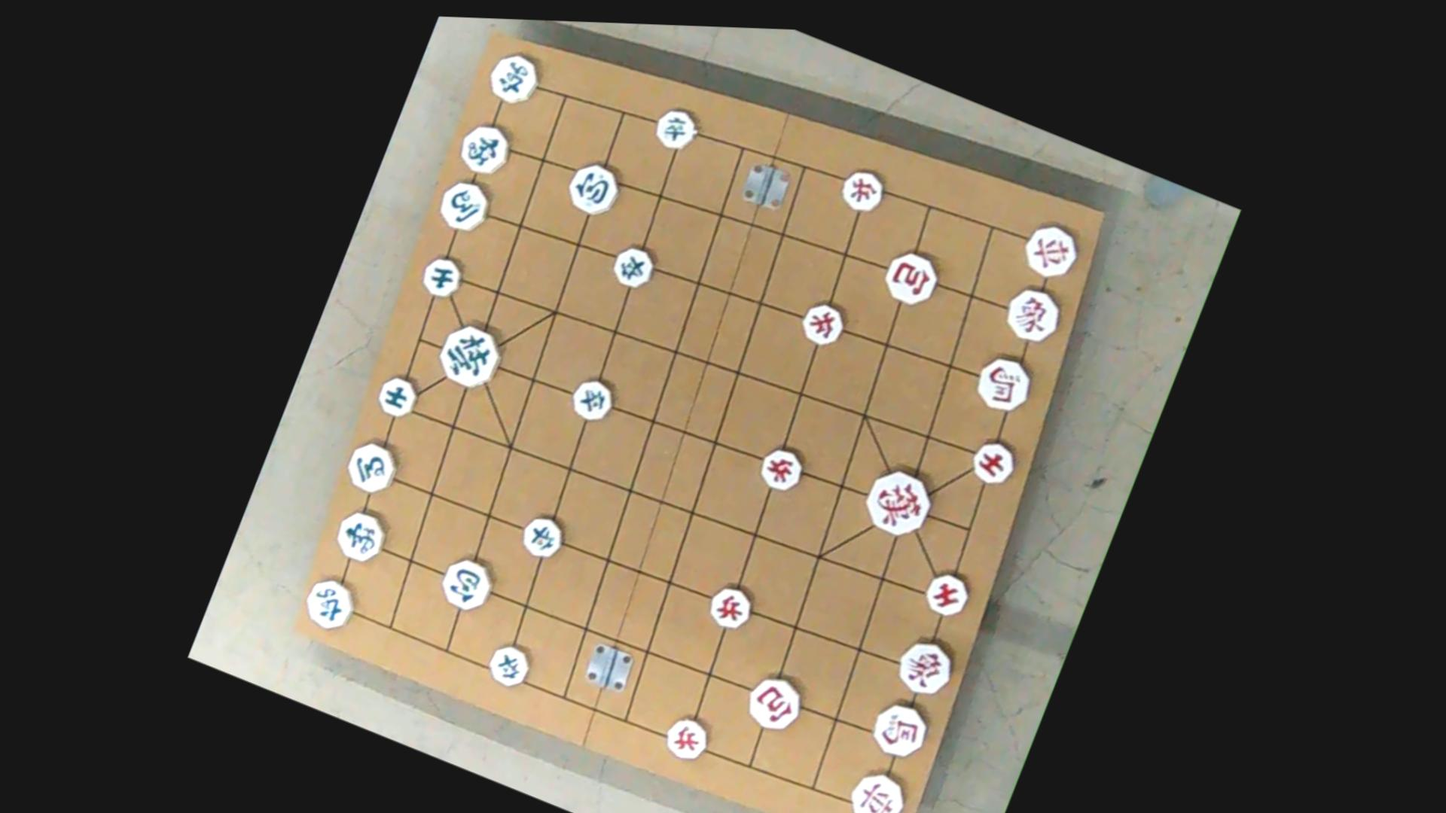cha_green: (479, 44, 548, 113), (300, 572, 358, 634)
cha_red: (1021, 217, 1086, 287), (845, 762, 911, 813)
jol_green: (570, 370, 619, 427), (653, 99, 703, 154), (519, 508, 569, 563), (610, 240, 658, 294), (487, 641, 535, 693)
jol_red: (753, 439, 810, 498), (702, 577, 758, 636), (660, 709, 715, 766), (798, 294, 848, 349), (838, 164, 887, 219)
ma_green: (344, 431, 403, 496), (437, 175, 494, 238)
ma_red: (970, 352, 1035, 421), (869, 693, 934, 762)
po_green: (437, 550, 496, 617), (563, 157, 623, 222)
po_red: (743, 668, 806, 738), (882, 245, 945, 313)
sa_green: (375, 369, 422, 422), (420, 249, 466, 303)
sa_red: (968, 433, 1020, 490), (921, 567, 972, 622)
sang_green: (456, 118, 516, 184), (334, 506, 392, 571)
sang_red: (1002, 275, 1069, 347), (894, 629, 959, 700)
wang_green: (432, 315, 504, 394)
wang_red: (861, 462, 937, 543)
